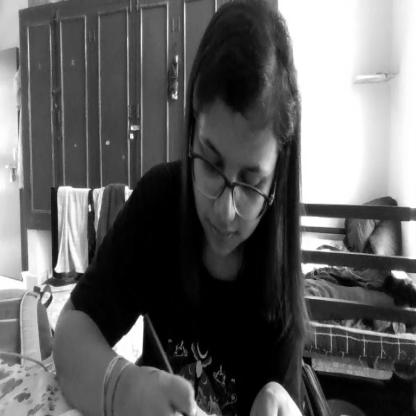Normal: (190, 3, 300, 269)
